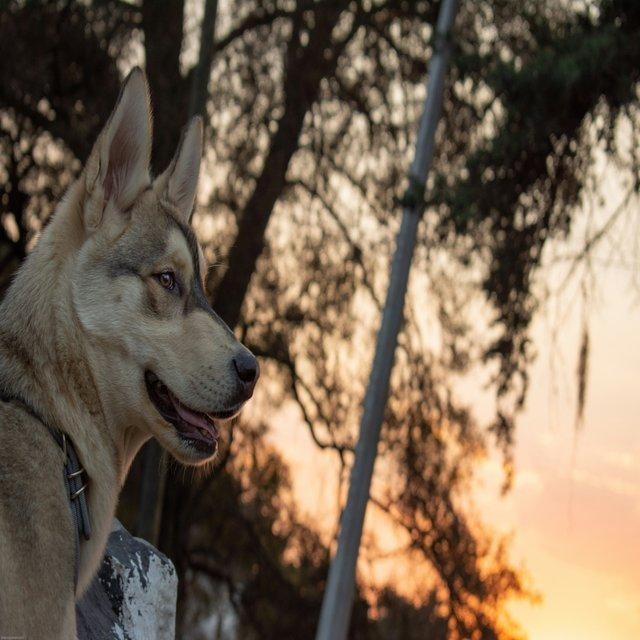husky: (0, 63, 261, 638)
